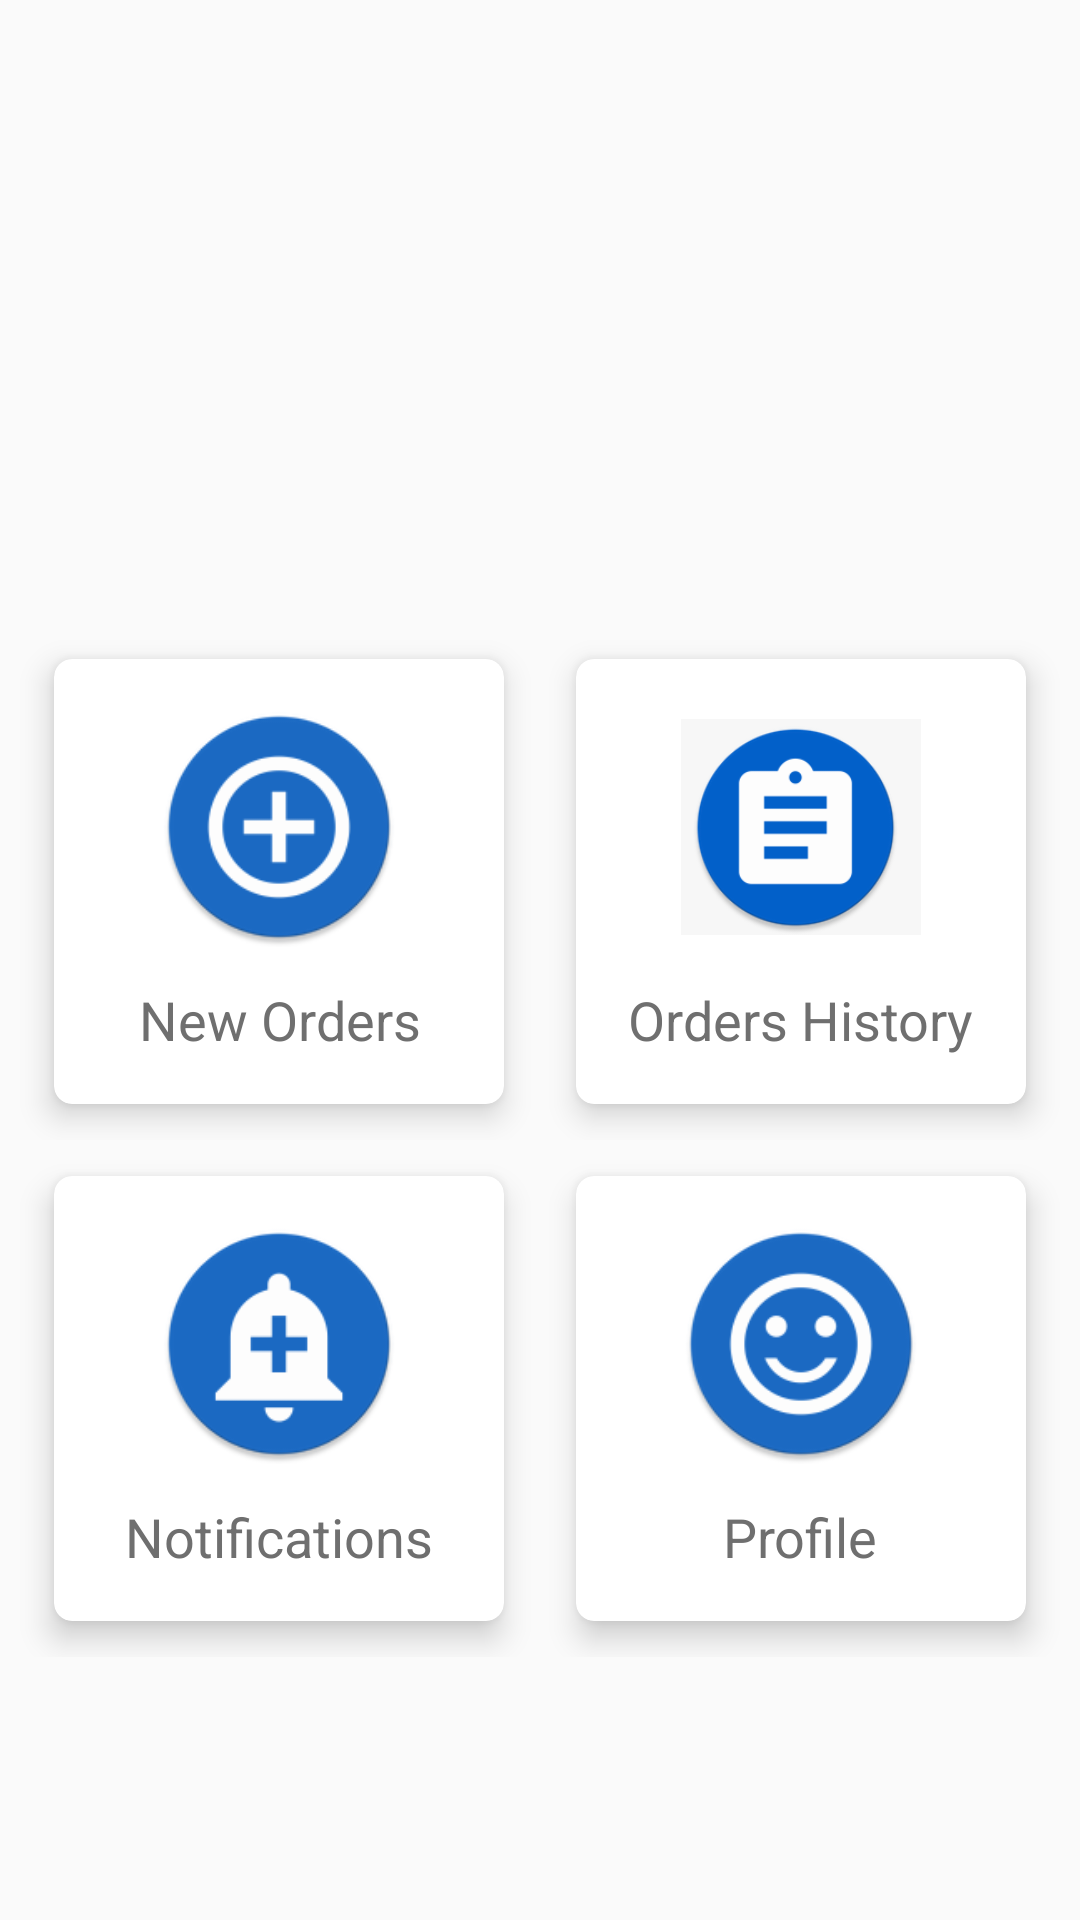

Icon click points for this 1080px x 1920px phone screenshot, format point (x, y):
addnew: point (279, 829)
